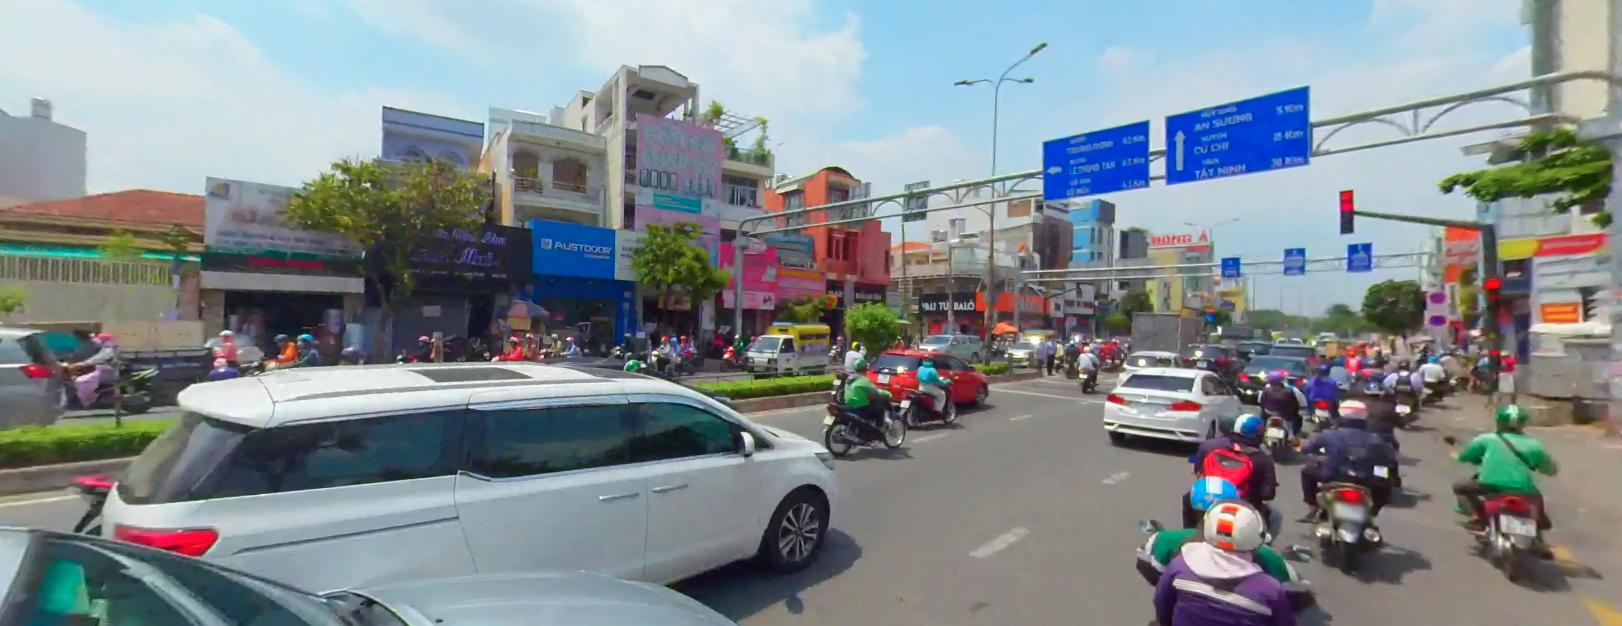Cam dung va do: (1429, 312, 1447, 324), (1429, 289, 1445, 301)
